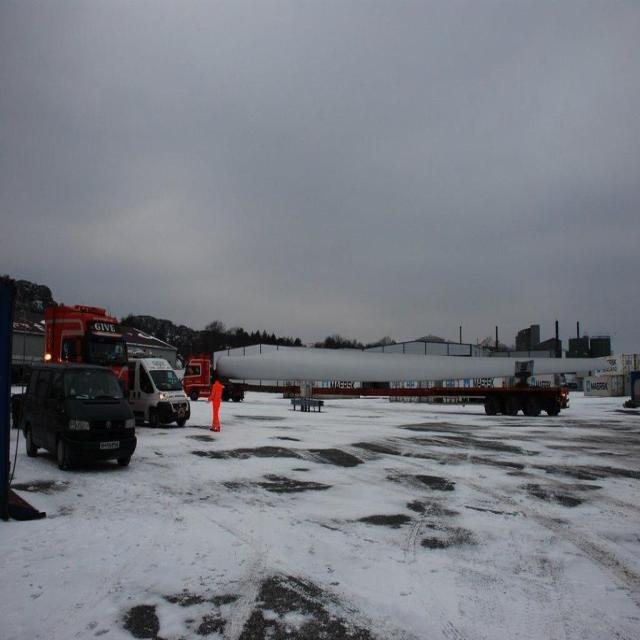car: (12, 357, 135, 471)
